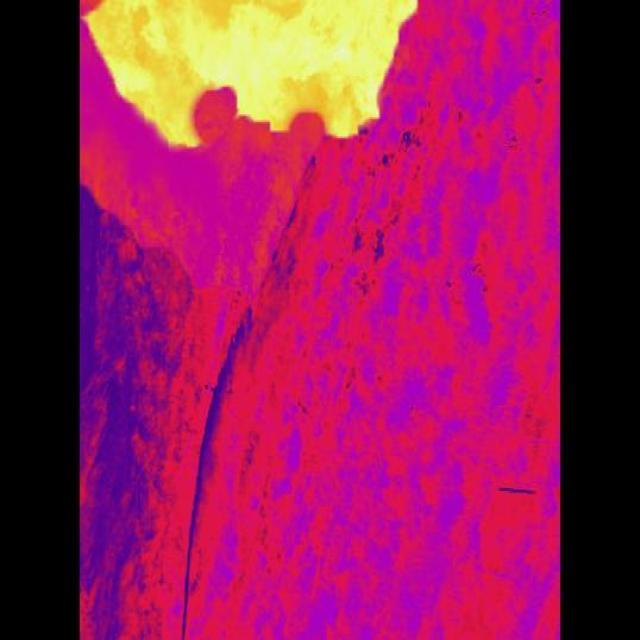fire: (81, 1, 415, 153)
